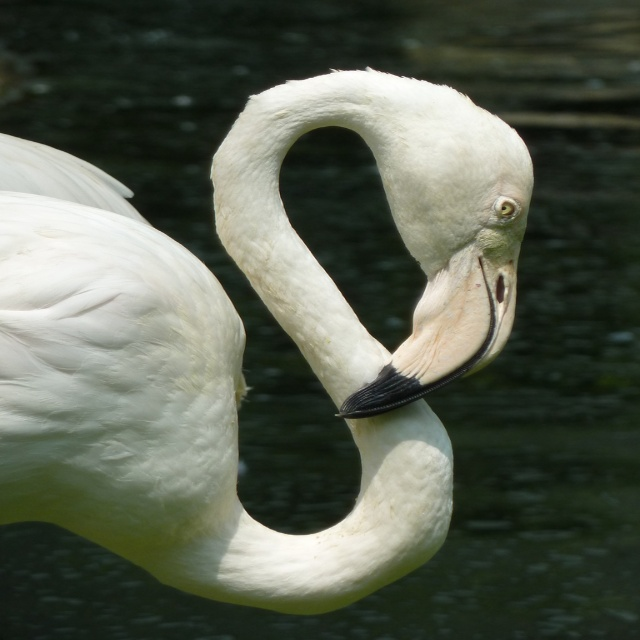Swan: (0, 67, 534, 615)
